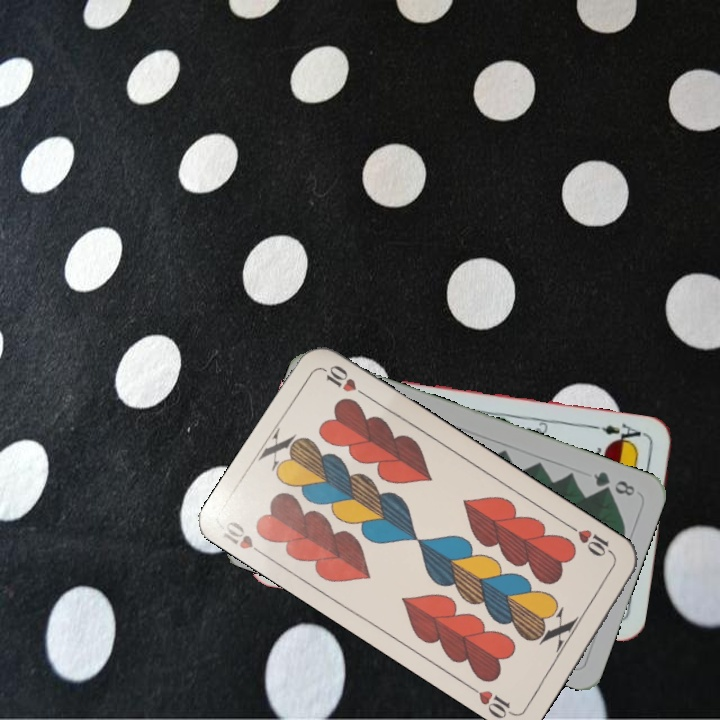EA: (590, 419, 649, 448)
G8: (589, 467, 638, 499)
H10: (219, 517, 271, 561), (565, 521, 618, 560)
